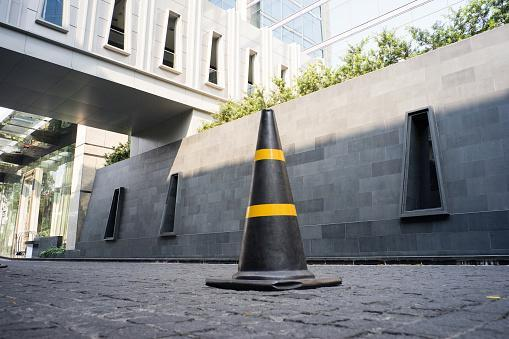Cone: (207, 107, 345, 293)
